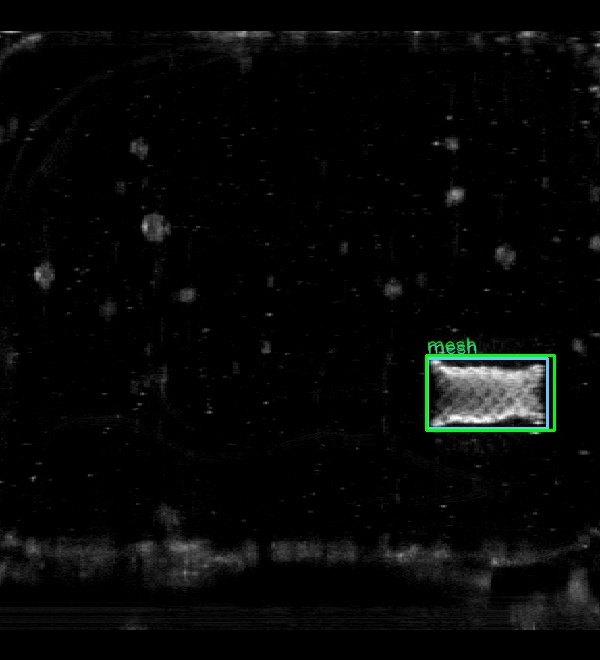mesh: (427, 358, 547, 428)
